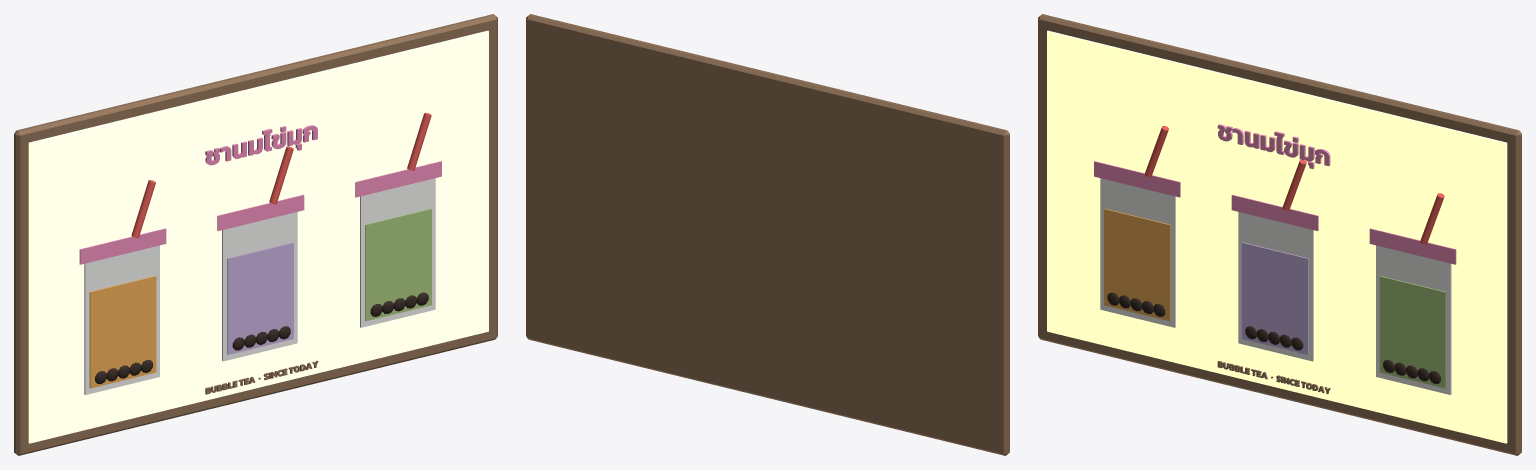
Rendered from SM_Mural.fbx.
3 views of the same model, side by side, from view 1: azimuth 30°, elevation 25°; view 2: azimuth 150°, elevation 25°; view 3: azimuth 330°, elevation 25° (orthographic).
Visible parts, largest first — view 1: SM_Mural; view 2: SM_Mural; view 3: SM_Mural.
Part boxes in pixels (x1,y1,x2,y2): SM_Mural: [14, 14, 497, 455]; SM_Mural: [526, 14, 1009, 455]; SM_Mural: [1038, 14, 1521, 455].
Size of the model in its own units: 1.68 by 1.08 by 0.06.
